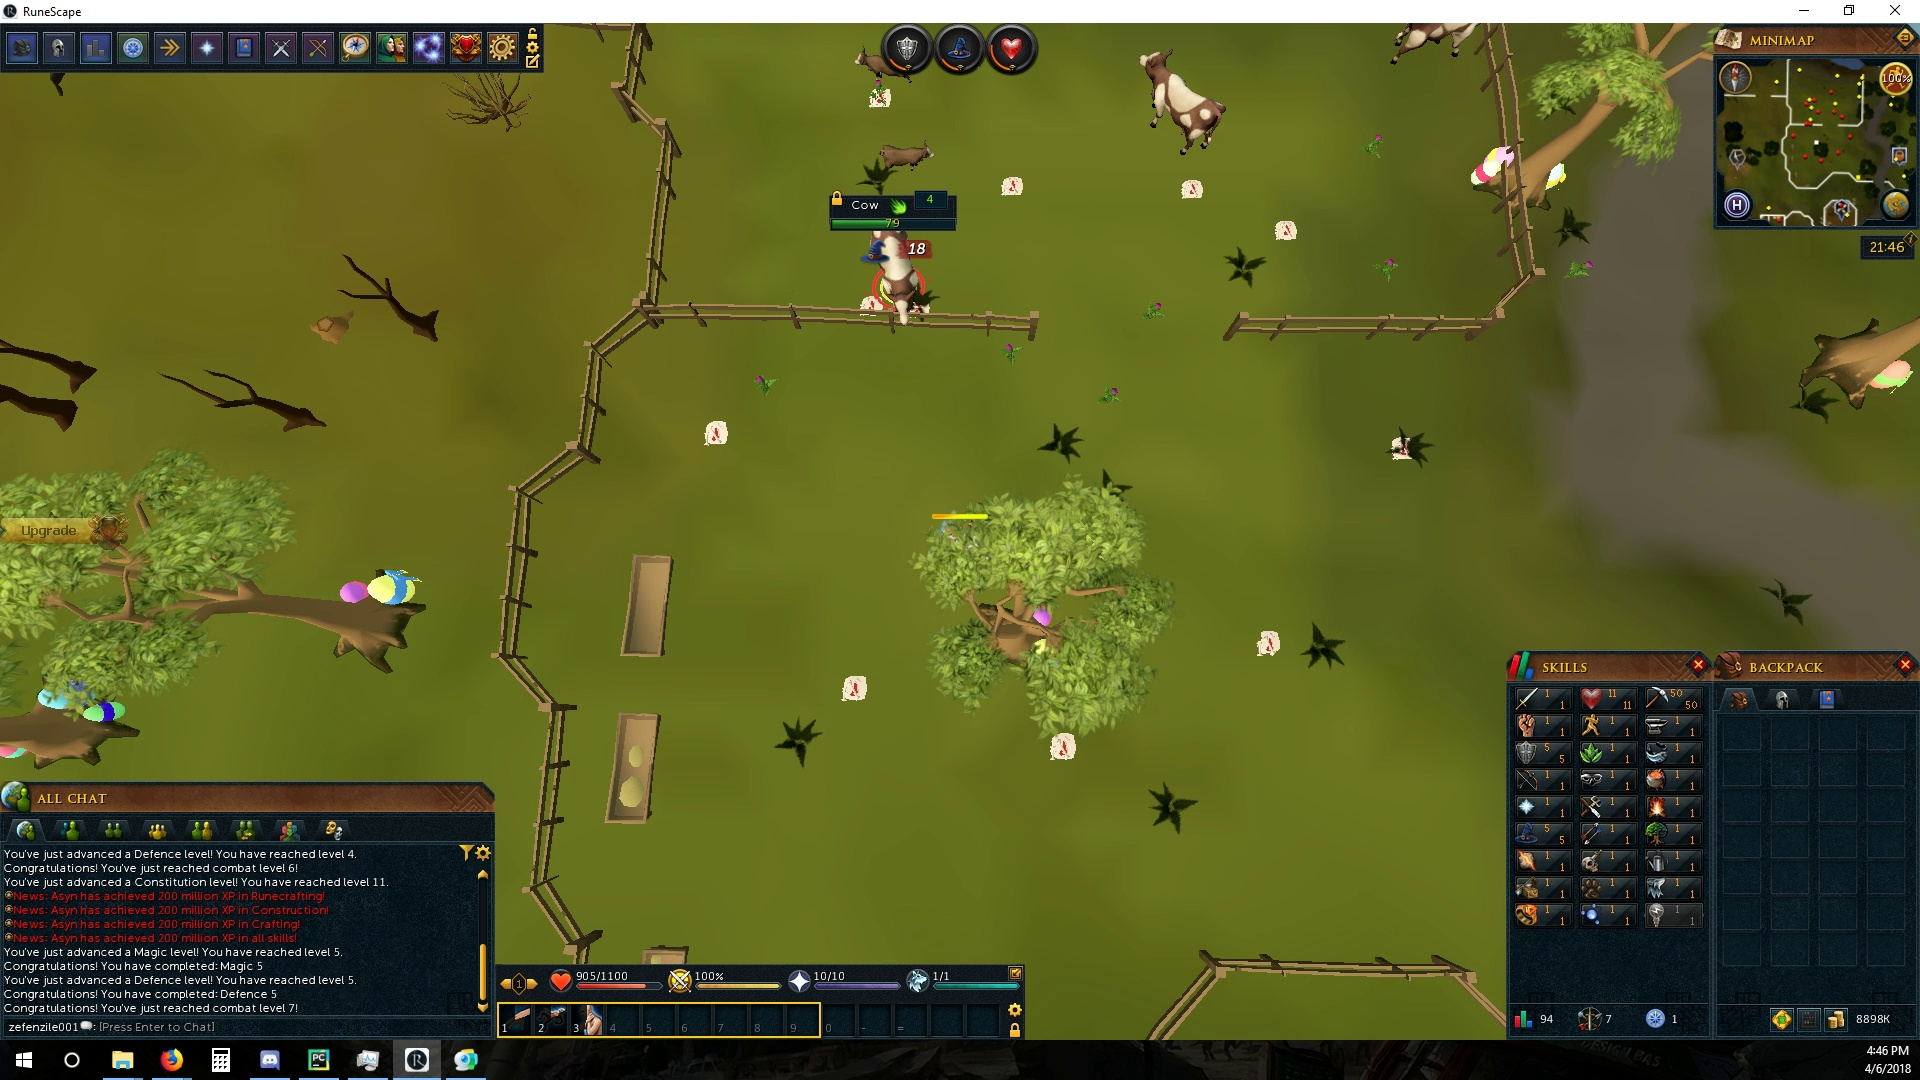calf: (847, 47, 905, 84), (877, 138, 936, 173)
cow: (1134, 44, 1228, 161), (858, 233, 938, 331)
cow_drop: (696, 413, 729, 448), (1044, 733, 1081, 765), (1386, 433, 1418, 465), (1266, 214, 1300, 243), (1253, 624, 1282, 658), (998, 170, 1027, 200), (837, 674, 865, 702), (1176, 175, 1207, 200), (855, 291, 882, 316), (869, 88, 895, 111)
